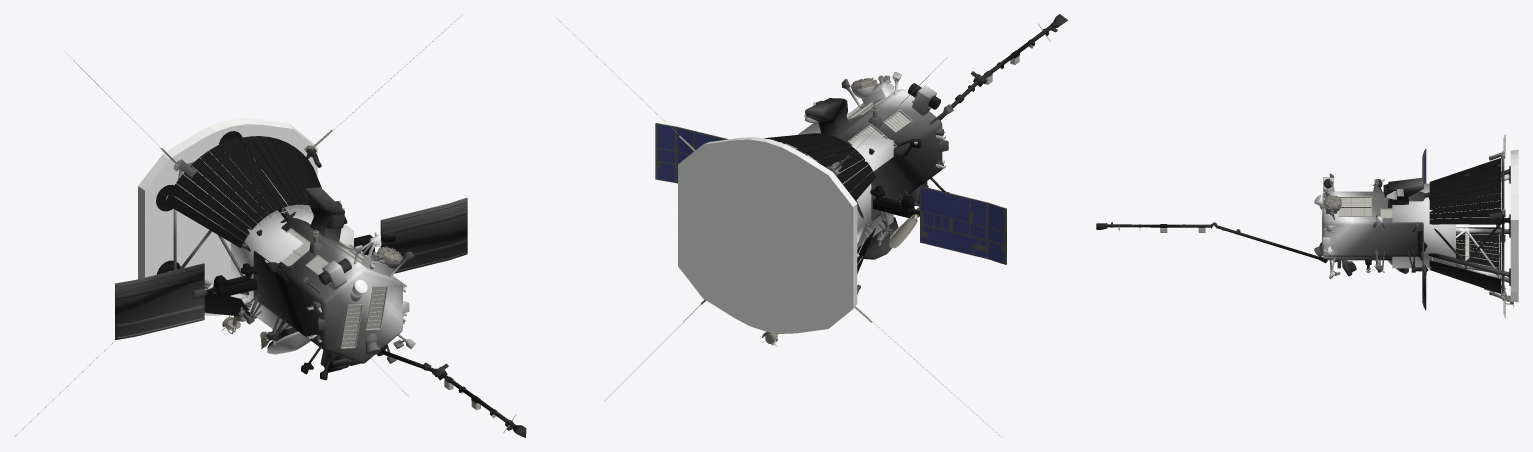
The model's file is space-parker.glb.
3 views of the same model, side by side, from view 1: azimuth 30°, elevation 25°; view 2: azimuth 150°, elevation 25°; view 3: azimuth 270°, elevation 25° (orthographic). The views are drawn at different scales.
Visible parts, largest first — view 1: BUS, CoolingSystem, Instruments, _root, CoolingSystem_frame, solarArray_arms, HGA; view 2: Instruments, BUS, CoolingSystem, _root, CoolingSystem_frame, solarArray_arms; view 3: BUS, CoolingSystem, _root, Instruments, CoolingSystem_frame.
Boxes of the visible parts, <box> form: BUS: <box>115,143,526,437</box>; CoolingSystem: <box>156,131,321,317</box>; Instruments: <box>115,118,466,348</box>; _root: <box>231,203,353,331</box>; CoolingSystem_frame: <box>15,14,462,436</box>; solarArray_arms: <box>206,234,381,297</box>; HGA: <box>267,331,310,354</box>; Instruments: <box>655,77,1006,346</box>; BUS: <box>656,14,1067,294</box>; CoolingSystem: <box>764,133,875,273</box>; _root: <box>785,121,893,247</box>; CoolingSystem_frame: <box>556,17,1001,437</box>; solarArray_arms: <box>870,186,919,217</box>; BUS: <box>1096,148,1509,310</box>; CoolingSystem: <box>1429,158,1510,293</box>; _root: <box>1392,183,1455,268</box>; Instruments: <box>1323,134,1518,317</box>; CoolingSystem_frame: <box>1322,165,1511,304</box>.
Bounding box in the file's own units: 5.75 × 5.26 × 6.61.
6 materials, 2 textured.
